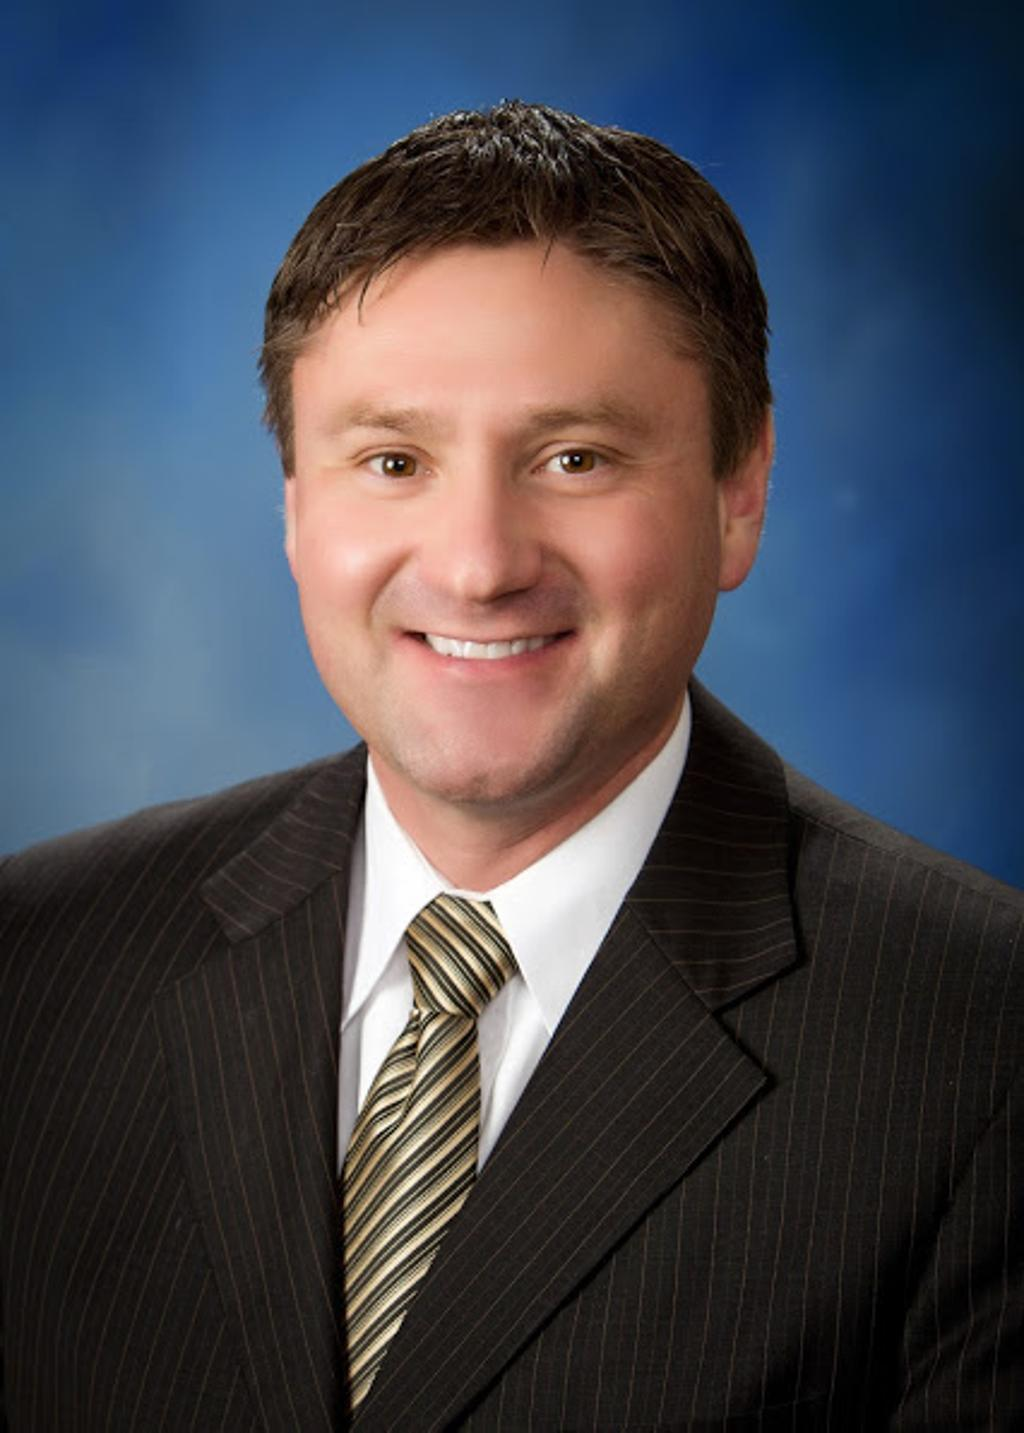face: (299, 252, 716, 809)
